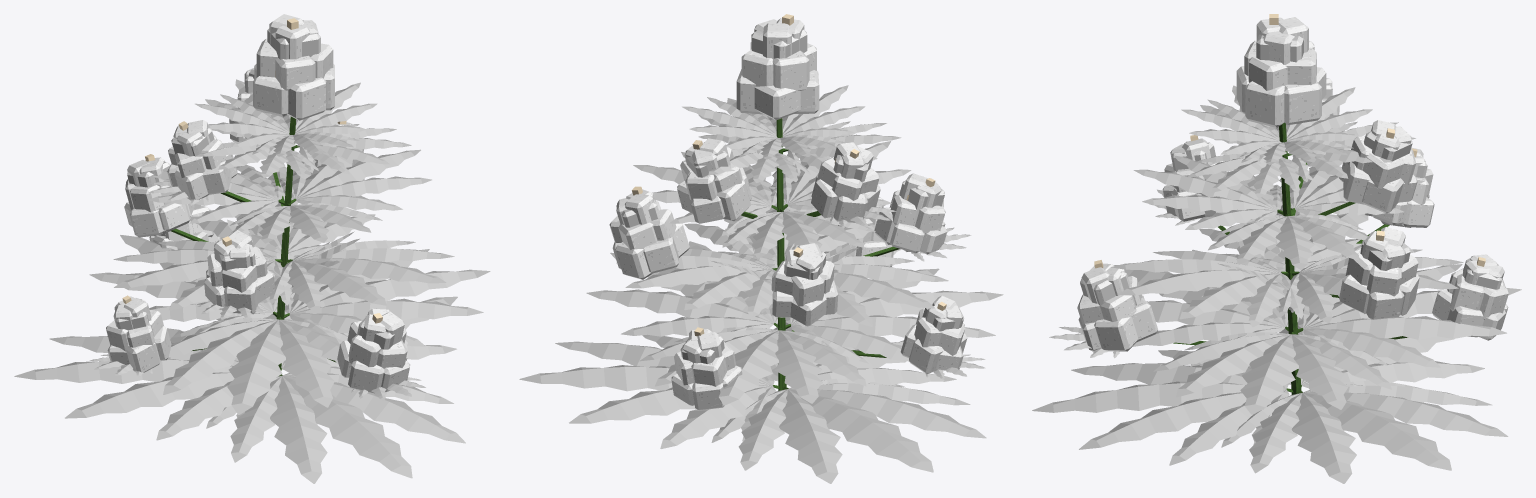
File: plant_3_3_1.obj
The picture shows the model from 3 angles, left to right: view 1: azimuth 30°, elevation 25°; view 2: azimuth 150°, elevation 25°; view 3: azimuth 270°, elevation 25°; orthographic projection. The views are drawn at different scales.
Parts seen in each view (by area): view 1: model; view 2: model; view 3: model.
Boxes of the visible parts, x1,y1,x2,y2 form: model: (14, 14, 490, 483); model: (519, 14, 1003, 483); model: (1032, 14, 1521, 483).
Size of the model in its own units: 1.07 by 0.9972 by 1.06.
